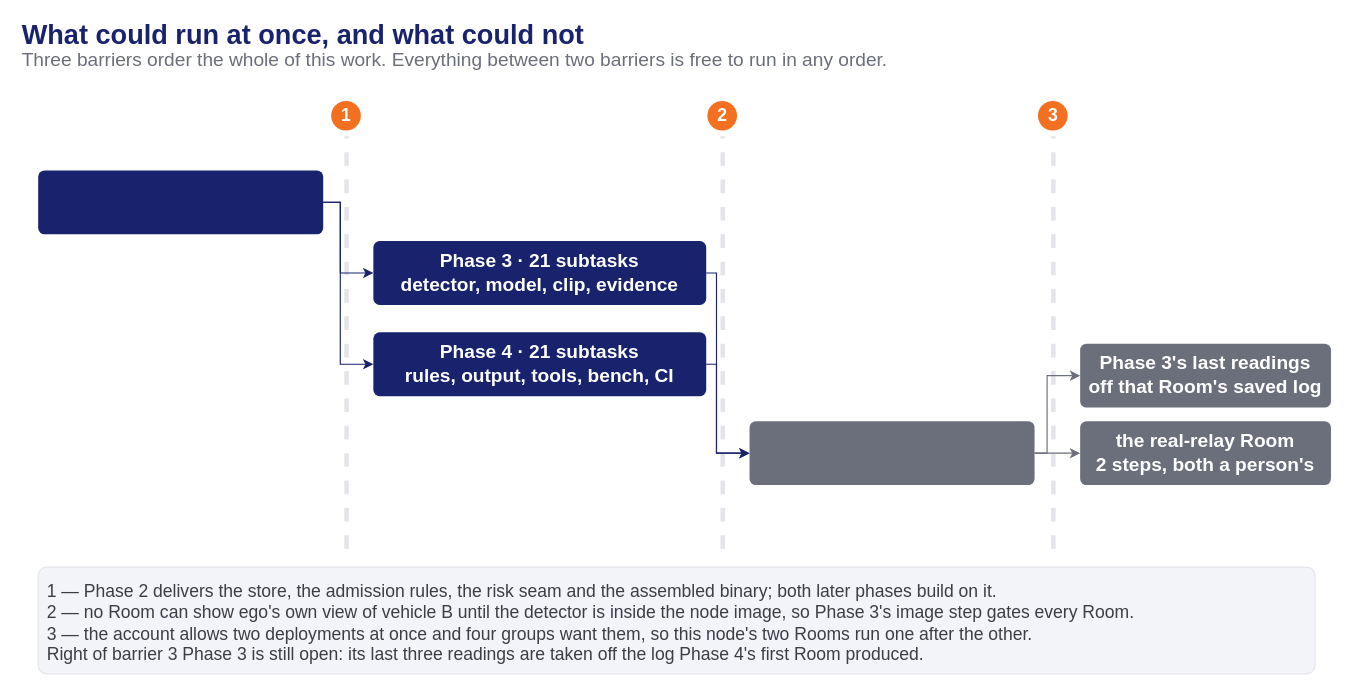
The diagram is 1352 pixels wide and 694 high, and some of its shapes have lost their labels. The centre of each missing label's shape, as x and y in pixels:
"Phase 2 · 26 subtasks 13 start with no predecessor" goes at (x=180, y=202).
"the isolated Room 8 steps, 4 of them a person's" goes at (x=891, y=452).
